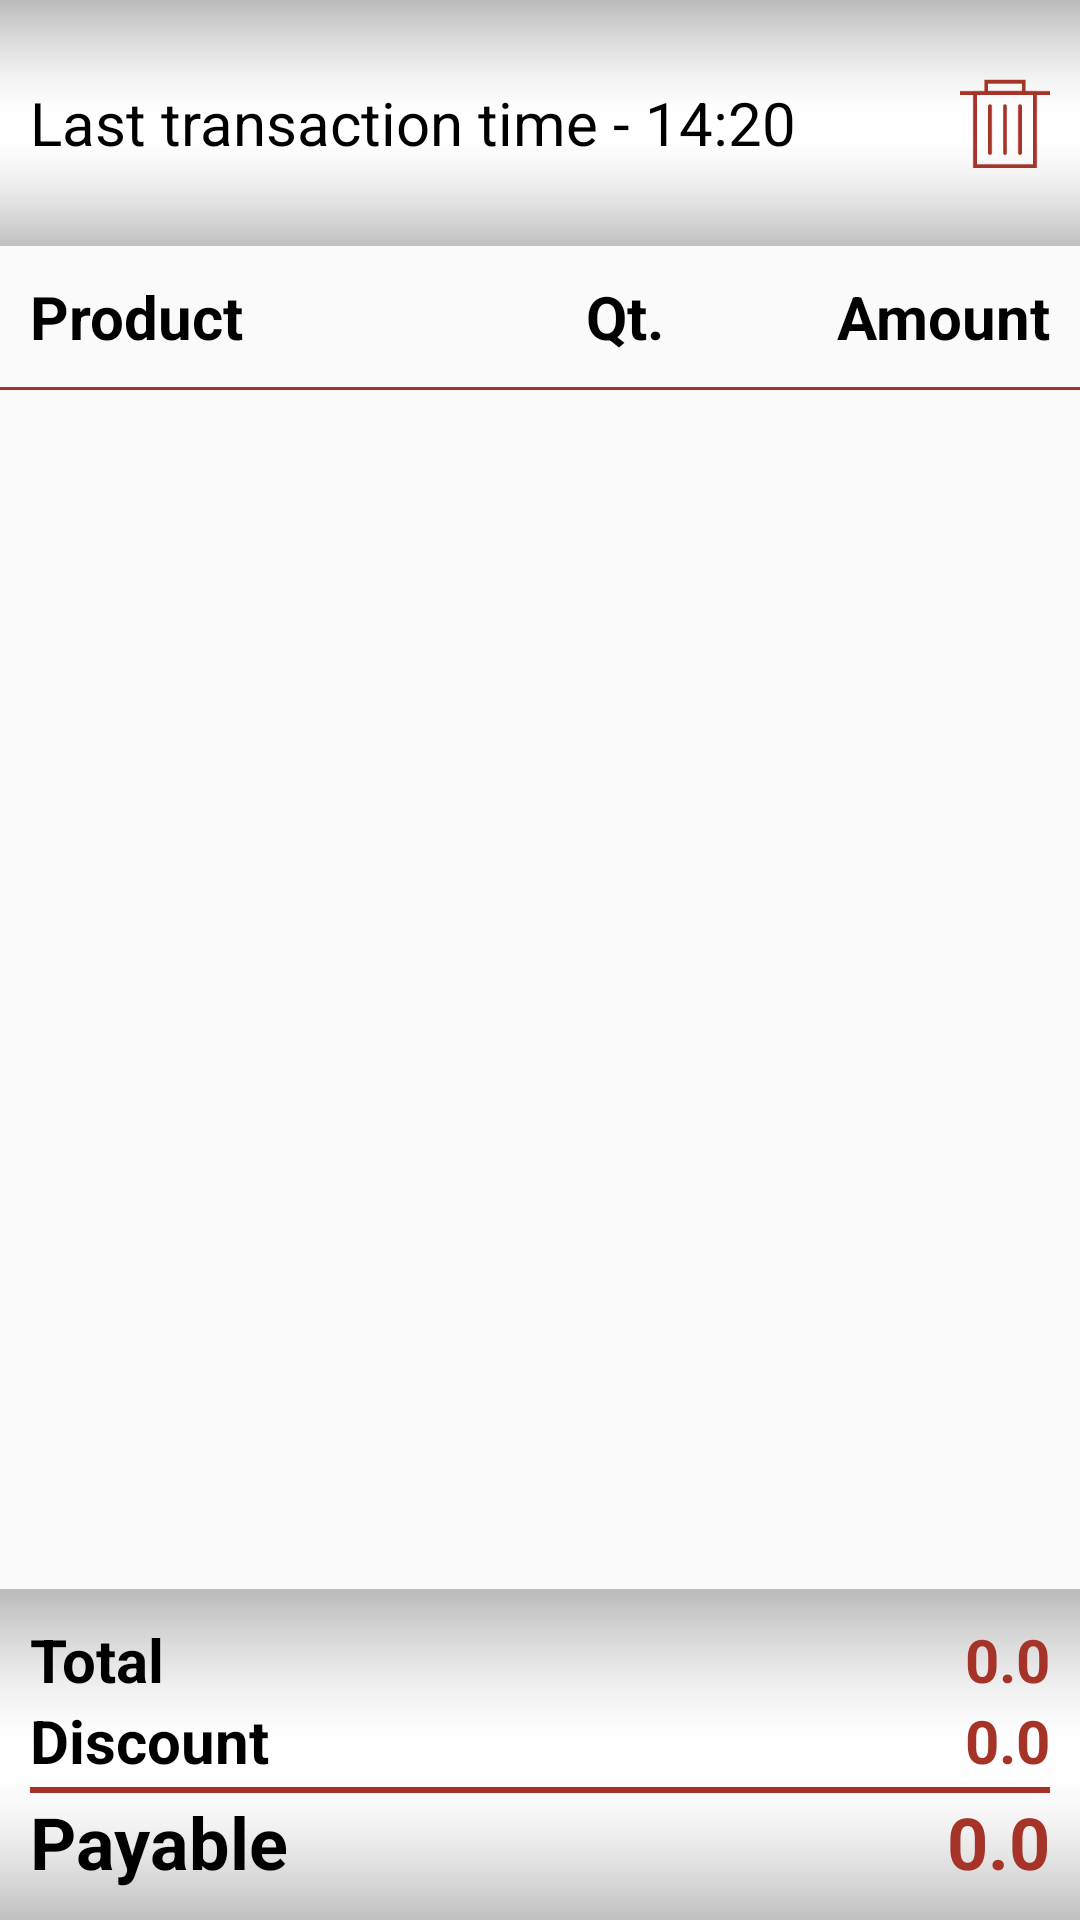

Screen size 1080*1920. Icon name, then its box in pixels as [x1=x1, y1=y1, x2=x2, y2=y2]:
delete maroon: [x1=960, y1=79, x2=1050, y2=168]
